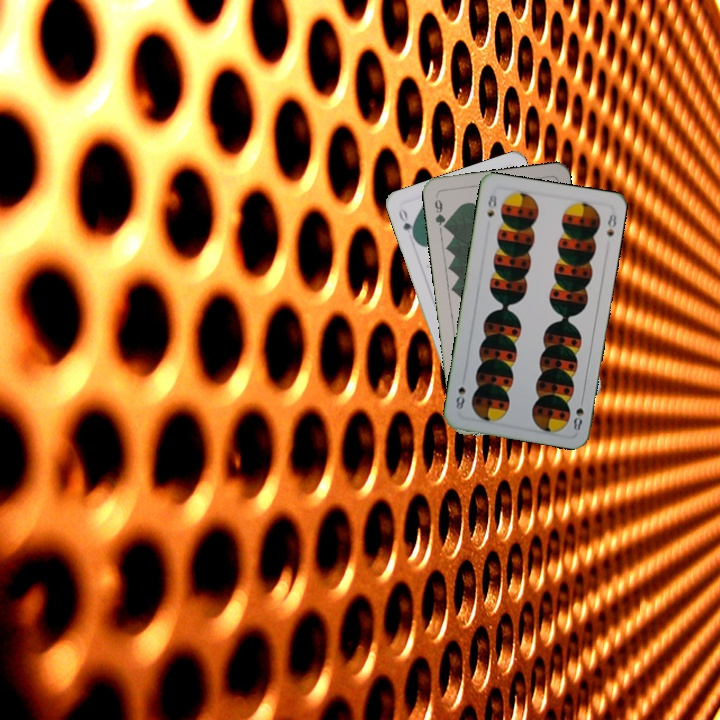G9: (430, 192, 450, 232)
GO: (394, 204, 418, 243)
S8: (483, 190, 500, 220), (569, 404, 586, 433)
